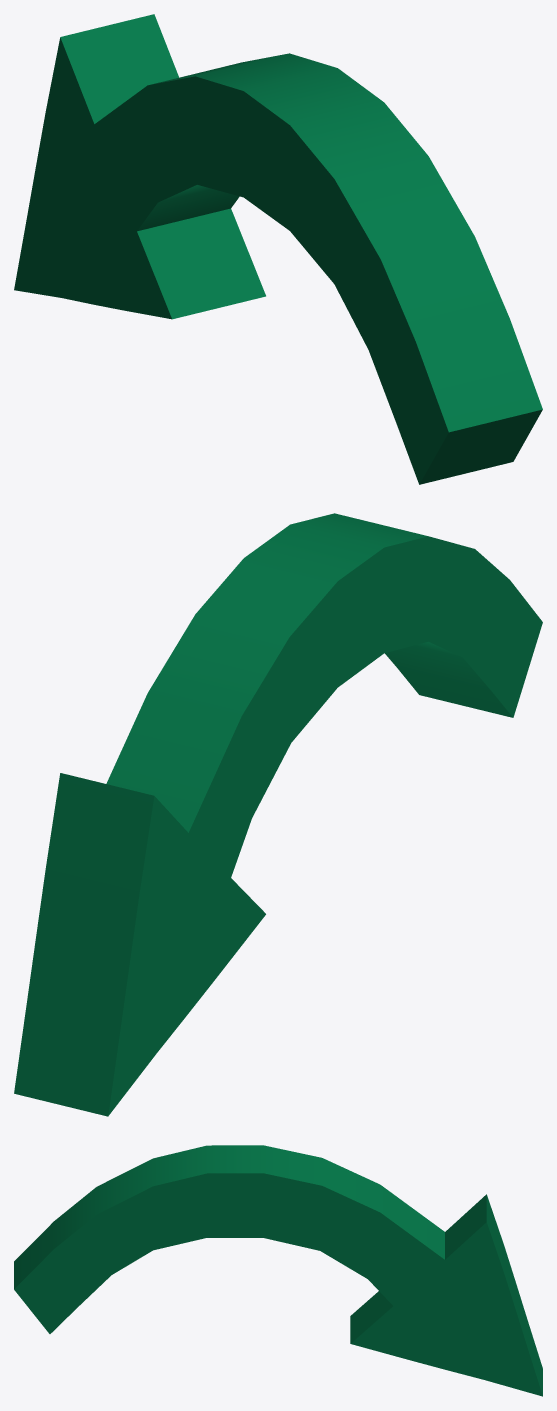
File: greenleap.fbx
3 renders of one model, top to bottom at view 1: azimuth 30°, elevation 25°; view 2: azimuth 150°, elevation 25°; view 3: azimuth 270°, elevation 25°, orthographic. The views are drawn at different scales.
Parts seen in each view (by area): view 1: pCylinder8; view 2: pCylinder8; view 3: pCylinder8.
Boxes of the visible parts, x1,y1,x2,y2 form: pCylinder8: [14, 14, 542, 484]; pCylinder8: [14, 513, 542, 1116]; pCylinder8: [14, 1145, 542, 1396].
Bounding box in the file's own units: 0.3061 × 1.14 × 2.45.
